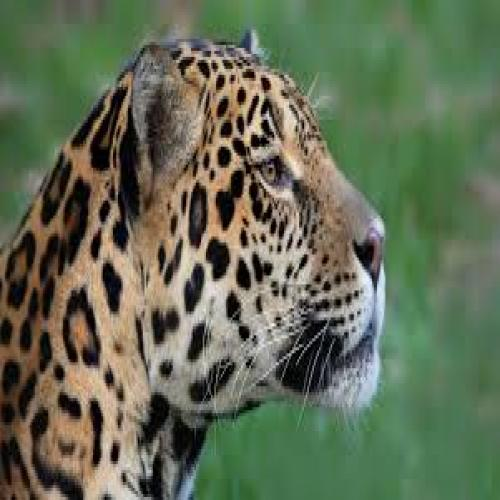jaguar_not-endangered: (0, 33, 389, 500)
